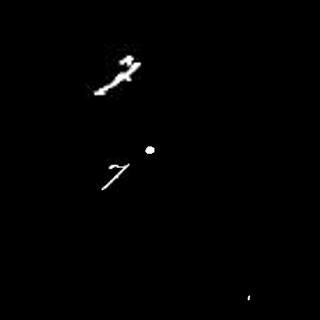dot: (144, 140, 158, 155), (244, 291, 253, 302)
seven: (99, 51, 141, 96), (100, 161, 131, 193)
